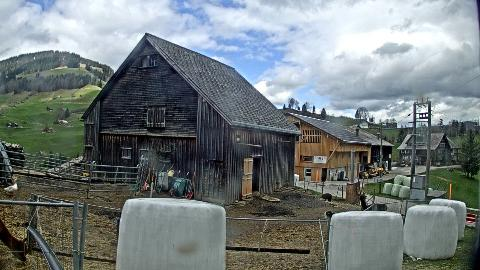sheep: (0, 216, 30, 262), (359, 193, 387, 211), (324, 210, 336, 222), (322, 192, 332, 202)
